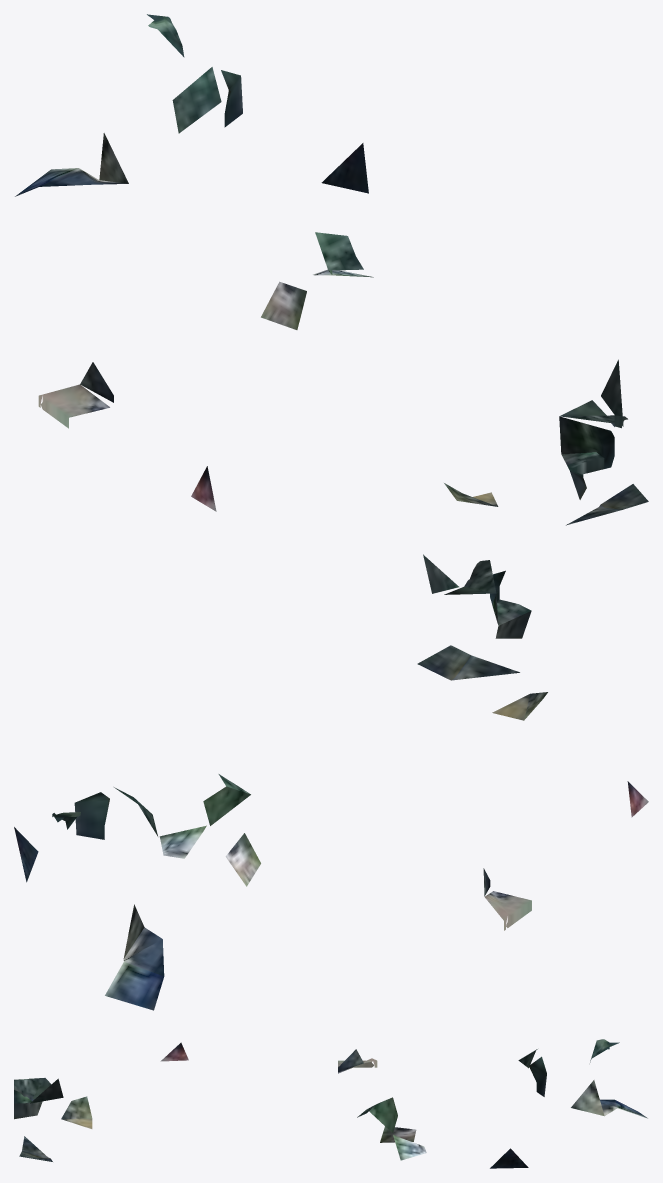
3 views of the same model, one above another, from view 1: azimuth 30°, elevation 25°; view 2: azimuth 150°, elevation 25°; view 3: azimuth 270°, elevation 25° (orthographic). The views are drawn at different scales.
Parts seen in each view (by area): view 1: 30436272704370416502_1; view 2: 30436272704370416502_1; view 3: 30436272704370416502_1.
Part boxes in pixels (x1,y1,x2,y2): 30436272704370416502_1: (15, 14, 648, 525); 30436272704370416502_1: (14, 554, 648, 1010); 30436272704370416502_1: (14, 1039, 647, 1168).
Size of the model in its own units: 18.87 by 7.71 by 37.48.
Materials: 1 (1 with a texture image).
